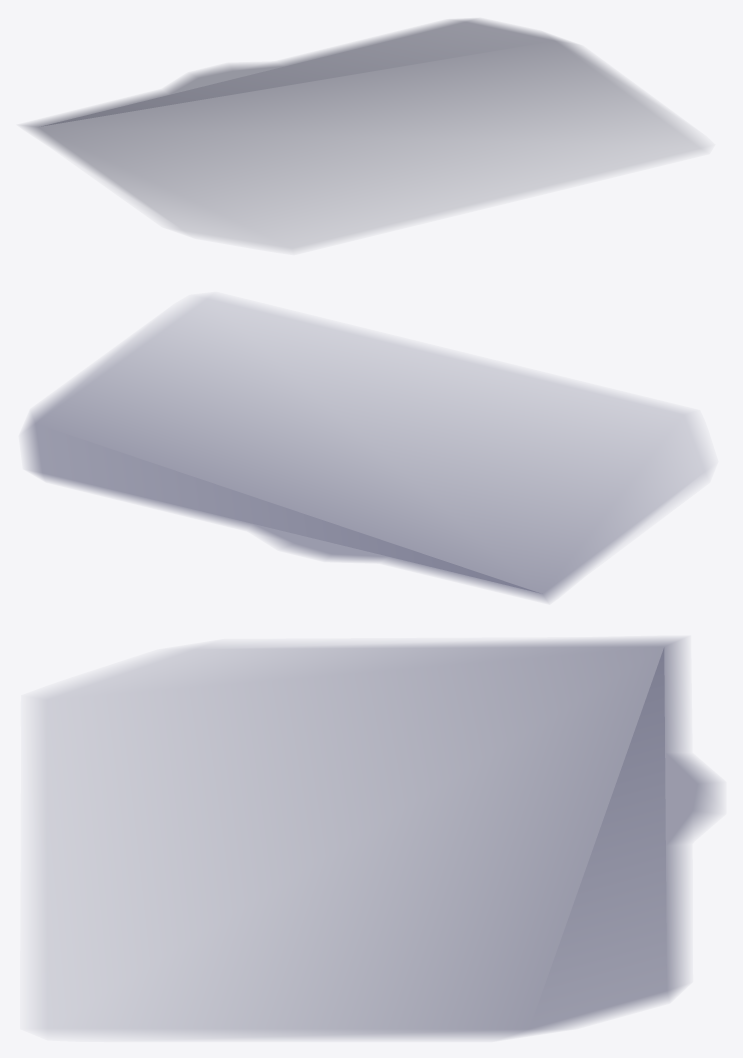
3 renders of one model, top to bottom at view 1: azimuth 30°, elevation 25°; view 2: azimuth 150°, elevation 25°; view 3: azimuth 270°, elevation 25°, orthographic. The views are drawn at different scales.
Visible parts, largest first — view 1: Joint_0_Object_0; view 2: Joint_0_Object_0; view 3: Joint_0_Object_0.
Boxes of the visible parts, left/top/right/bottom form: Joint_0_Object_0: left=23, top=19, right=702, bottom=248; Joint_0_Object_0: left=24, top=298, right=706, bottom=600; Joint_0_Object_0: left=42, top=639, right=717, bottom=1037.
Size of the model in its own units: 1481 by 0 by 1094.
1 material, 1 textured.
